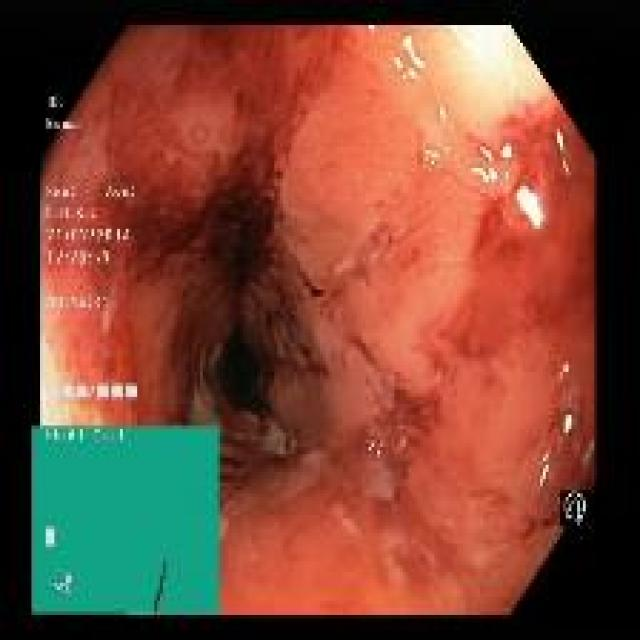ulcerative-colitis: (42, 27, 595, 615)
